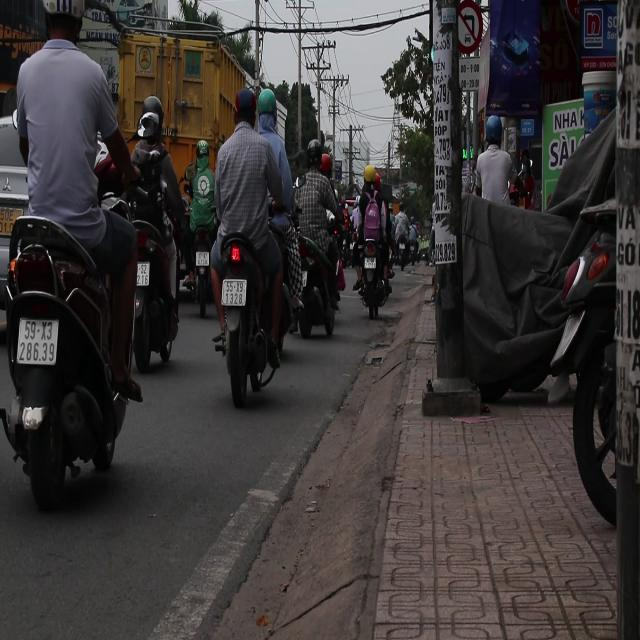motorbike: (0, 215, 139, 507), (104, 143, 184, 377), (208, 222, 286, 410), (272, 210, 339, 340), (362, 235, 386, 318)
